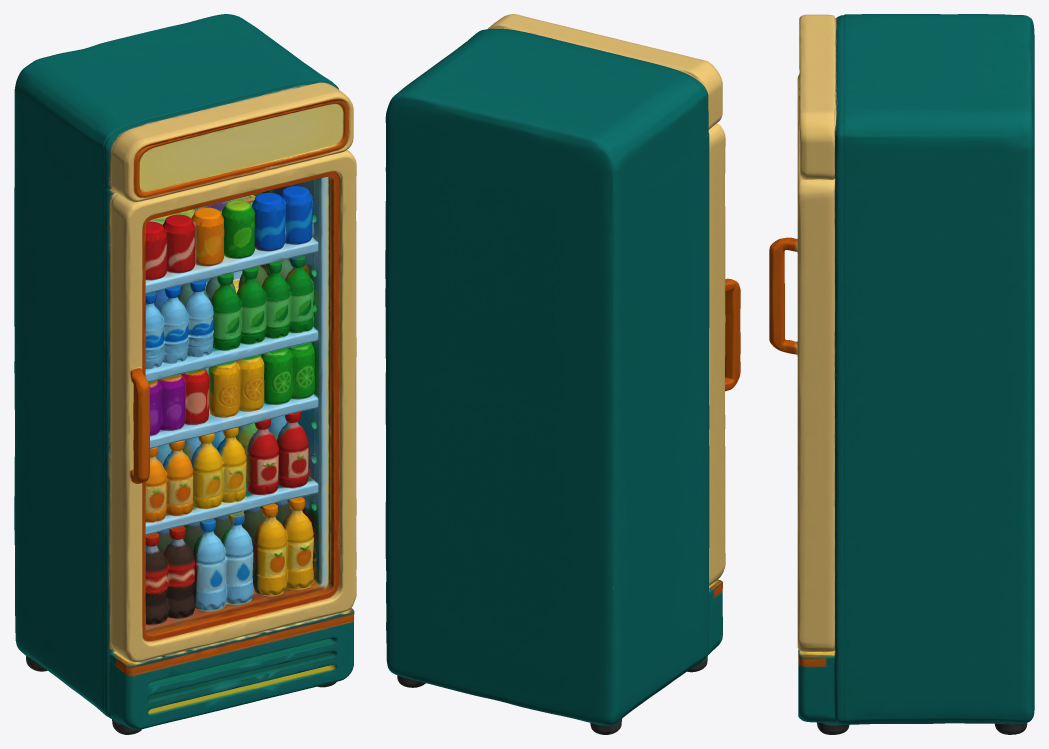
The model's file is Refrigerator.fbx.
The picture shows the model from 3 angles, left to right: view 1: azimuth 30°, elevation 25°; view 2: azimuth 150°, elevation 25°; view 3: azimuth 270°, elevation 25°; orthographic projection. The views are drawn at different scales.
Parts seen in each view (by area): view 1: tripo_node_cdbee12d-cb73-45c0-8748-218bfad5c1e4; view 2: tripo_node_cdbee12d-cb73-45c0-8748-218bfad5c1e4; view 3: tripo_node_cdbee12d-cb73-45c0-8748-218bfad5c1e4.
Boxes of the visible parts, <box> form: tripo_node_cdbee12d-cb73-45c0-8748-218bfad5c1e4: <box>14,14,356,734</box>; tripo_node_cdbee12d-cb73-45c0-8748-218bfad5c1e4: <box>385,14,740,734</box>; tripo_node_cdbee12d-cb73-45c0-8748-218bfad5c1e4: <box>769,14,1034,734</box>.
Bounding box in the file's own units: 39.86 × 97.9 × 38.
1 material, 1 textured.
